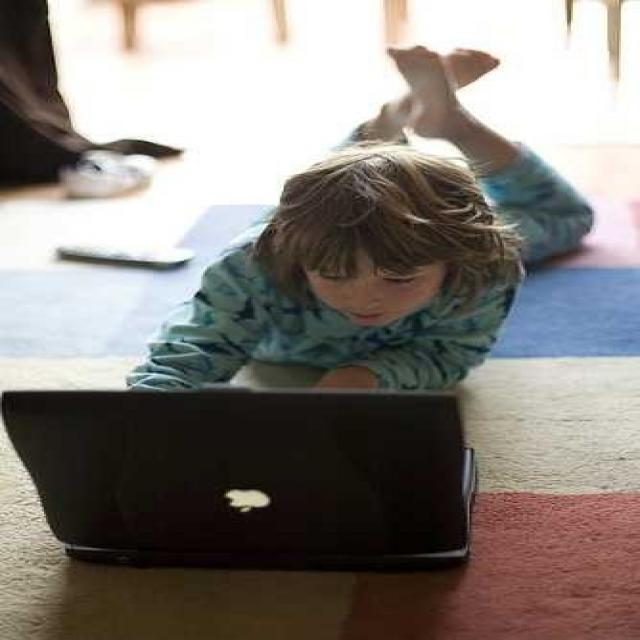laptop: (0, 376, 502, 584)
